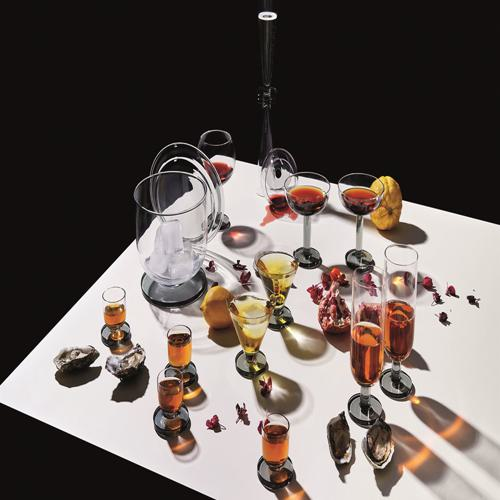copa: (379, 246, 418, 403), (349, 271, 387, 426), (337, 171, 378, 271), (285, 173, 326, 269), (227, 290, 272, 377), (197, 132, 236, 232), (253, 250, 295, 329), (257, 415, 296, 488), (156, 369, 191, 436), (165, 329, 197, 386), (102, 290, 130, 344)
